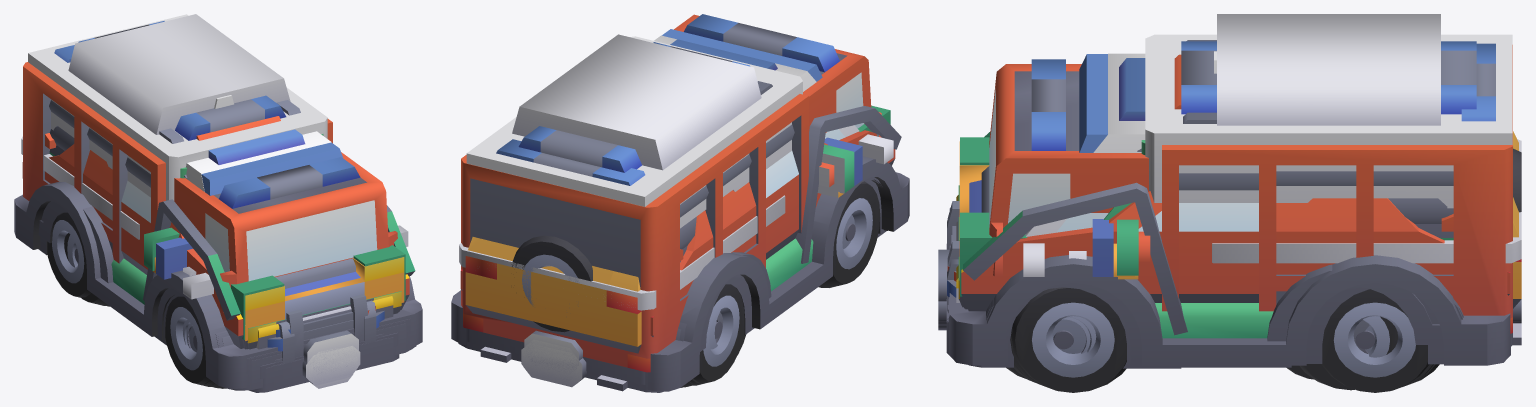
File: cars.glb
3 views of the same model, side by side, from view 1: azimuth 30°, elevation 25°; view 2: azimuth 150°, elevation 25°; view 3: azimuth 270°, elevation 25° (orthographic). The views are drawn at different scales.
Parts seen in each view (by area): view 1: firetruck_body, ambulance_body, sedan-sports_body, suv_body, van_body, taxi_body, truck-flat_body, garbage-truck_arm, hatchback-sports_body, sedan-sports_wheel-front-right, garbage-truck_body, police_grill (+3 smaller); view 2: firetruck_body, ambulance_body, sedan-sports_body, suv-luxury_body, truck-flat_body, sedan-sports_wheel-front-right, garbage-truck_arm, van_body, sedan-sports_wheel-back-right, suv_wheel-back, hatchback-sports_body, suv_body (+3 smaller); view 3: ambulance_body, firetruck_body, sedan-sports_body, truck-flat_body, suv_body, sedan-sports_wheel-front-left, sedan-sports_wheel-back-left, garbage-truck_arm, van_body, hatchback-sports_body, taxi_body, suv_wheel-back-left (+4 smaller).
Part boxes in pixels (x1=…): firetruck_body: x1=23, y1=45, x2=397, y2=390; ambulance_body: x1=28, y1=14, x2=398, y2=378; sedan-sports_body: x1=14, y1=144, x2=422, y2=389; suv_body: x1=38, y1=145, x2=410, y2=373; van_body: x1=156, y1=129, x2=360, y2=384; taxi_body: x1=153, y1=95, x2=408, y2=390; truck-flat_body: x1=21, y1=131, x2=416, y2=390; garbage-truck_arm: x1=143, y1=199, x2=415, y2=320; hatchback-sports_body: x1=111, y1=258, x2=412, y2=390; sedan-sports_wheel-front-right: x1=165, y1=296, x2=215, y2=386; garbage-truck_body: x1=180, y1=134, x2=399, y2=392; police_grill: x1=274, y1=294, x2=383, y2=381; firetruck_body: x1=461, y1=14, x2=886, y2=384; ambulance_body: x1=466, y1=34, x2=802, y2=380; sedan-sports_body: x1=451, y1=130, x2=909, y2=391; suv-luxury_body: x1=465, y1=180, x2=884, y2=353; truck-flat_body: x1=458, y1=35, x2=893, y2=392; sedan-sports_wheel-front-right: x1=818, y1=181, x2=880, y2=287; garbage-truck_arm: x1=795, y1=106, x2=901, y2=263; van_body: x1=526, y1=29, x2=880, y2=386; sedan-sports_wheel-back-right: x1=693, y1=284, x2=744, y2=385; suv_wheel-back: x1=511, y1=235, x2=592, y2=332; hatchback-sports_body: x1=524, y1=180, x2=876, y2=368; suv_body: x1=680, y1=105, x2=890, y2=351; ambulance_body: x1=947, y1=14, x2=1512, y2=368; firetruck_body: x1=969, y1=40, x2=1512, y2=367; sedan-sports_body: x1=938, y1=191, x2=1521, y2=365; truck-flat_body: x1=938, y1=53, x2=1521, y2=364; suv_body: x1=938, y1=137, x2=1453, y2=364; sedan-sports_wheel-front-left: x1=1011, y1=287, x2=1126, y2=392; sedan-sports_wheel-back-left: x1=1321, y1=289, x2=1429, y2=392; garbage-truck_arm: x1=963, y1=132, x2=1187, y2=335; van_body: x1=969, y1=54, x2=1145, y2=276; hatchback-sports_body: x1=938, y1=185, x2=1463, y2=354; taxi_body: x1=938, y1=51, x2=1521, y2=363; suv_wheel-back-left: x1=1299, y1=316, x2=1397, y2=390.
Bounding box in the file's own units: 0.5556 × 0.5538 × 1.
Materials: 1 (1 with a texture image).
